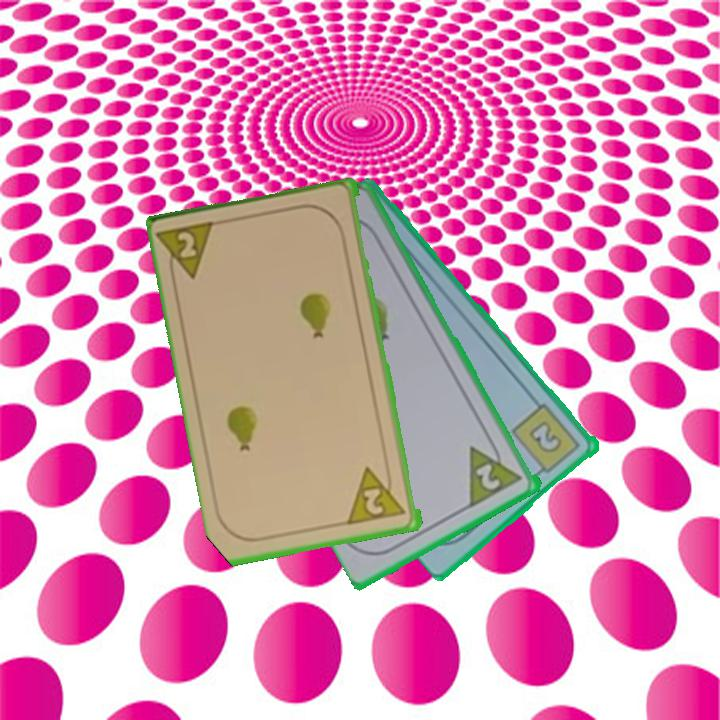2b: (508, 400, 584, 480)
2p: (465, 433, 526, 510), (156, 218, 221, 287), (346, 461, 409, 528)
